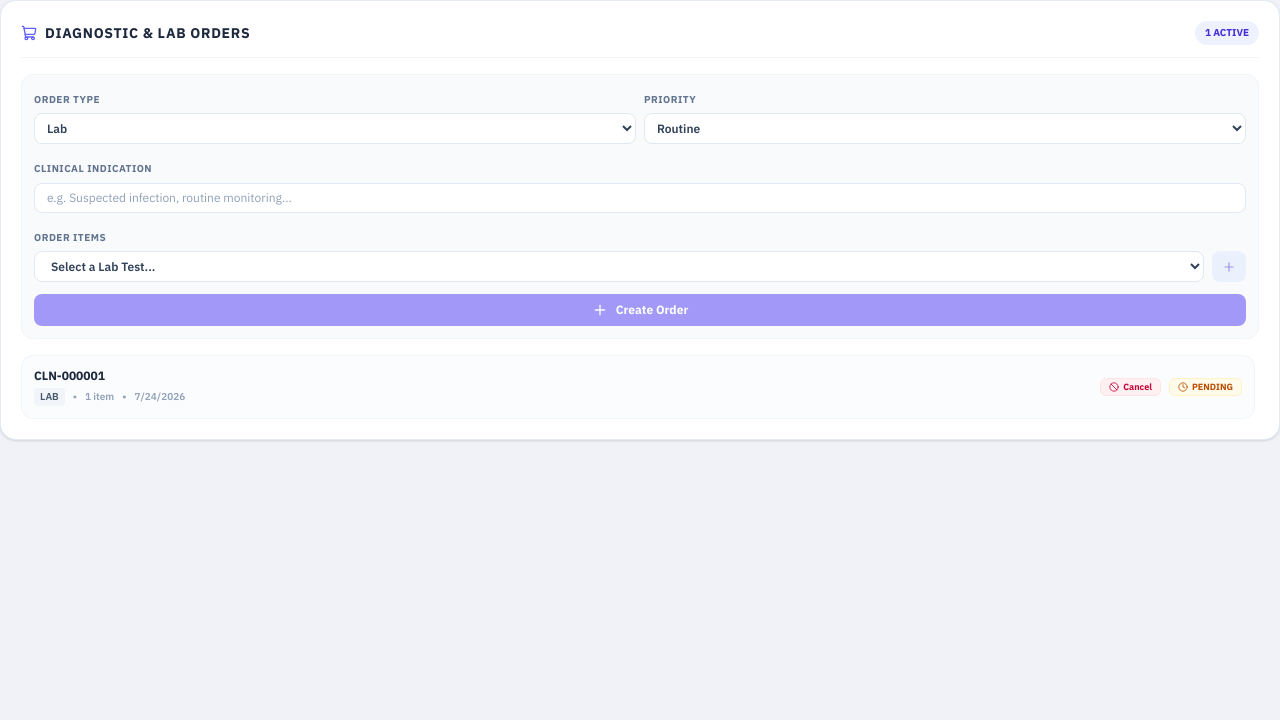
Test: DoctorOrdersPanel Component Tests › requires reason before confirming cancellation
Step 1. Click the button "Cancel" → {"x": 1131, "y": 387}, box [1100,378,1161,396]
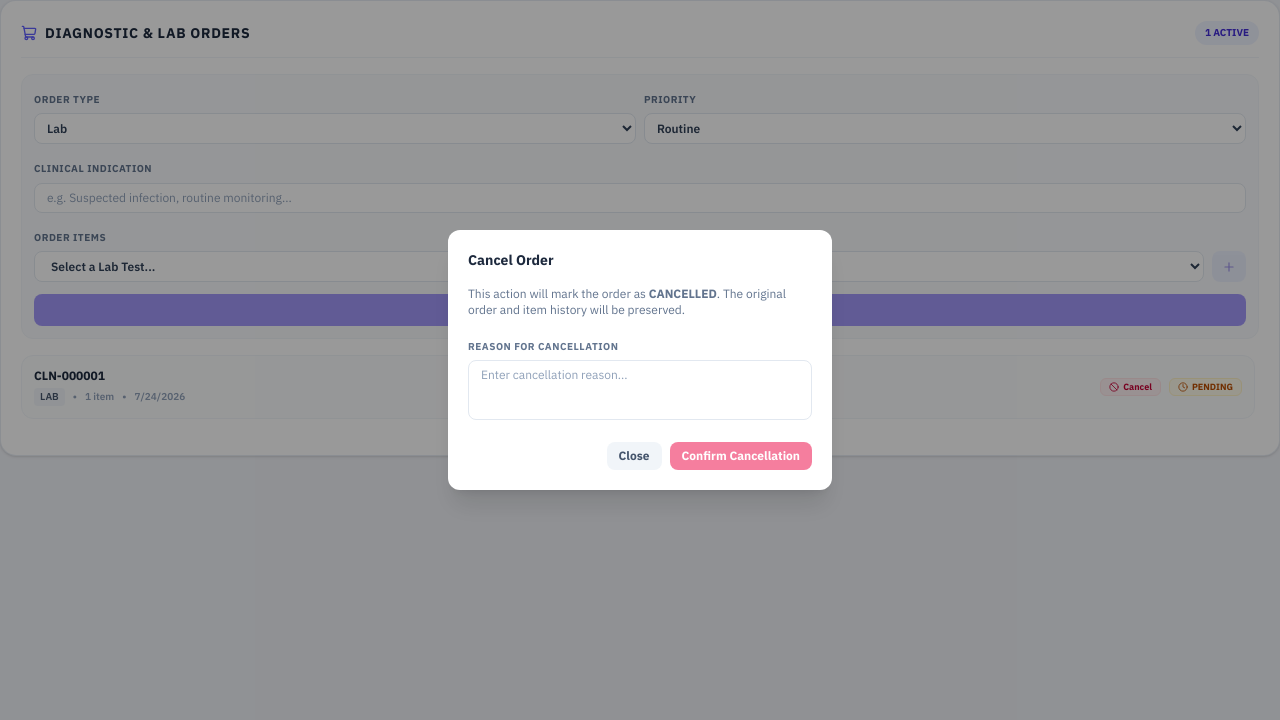
Expected: the button "Confirm Cancellation" is disabled, [670,442,812,470]
